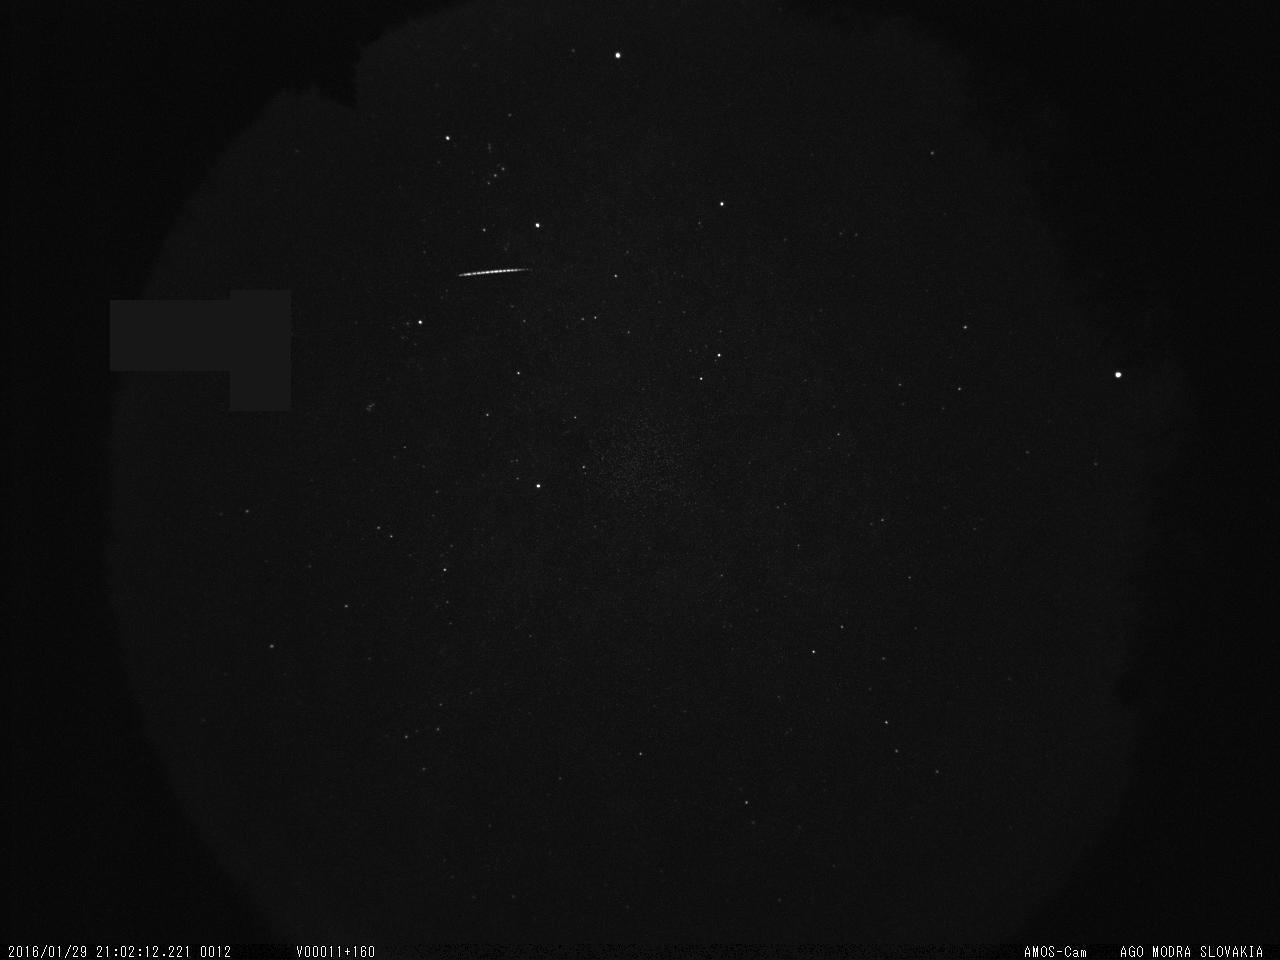meteor: (456, 262, 541, 288)
